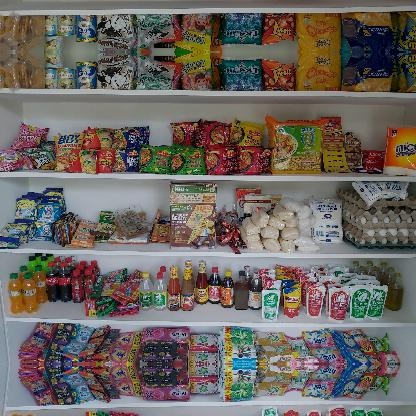Koko-Krunch: (168, 179, 216, 249)
